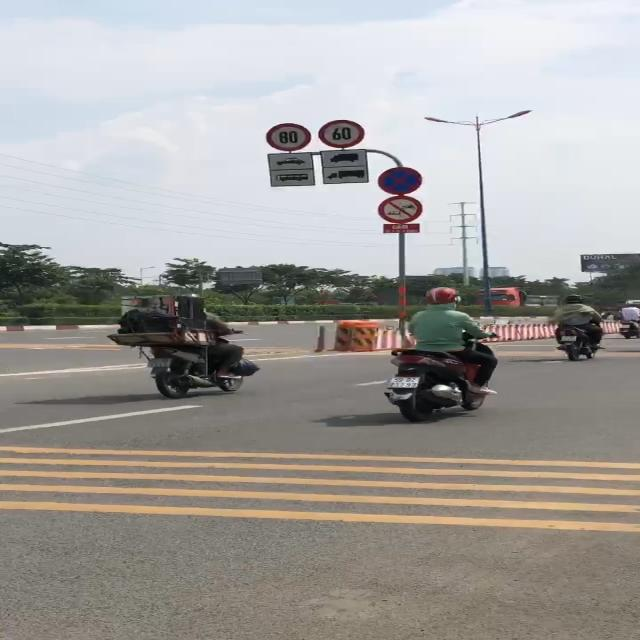Bien bao cam dung xe va do xe: (374, 166, 426, 196)
Bien bao toc do toi da cho phep: (315, 120, 370, 148), (264, 122, 312, 154)
